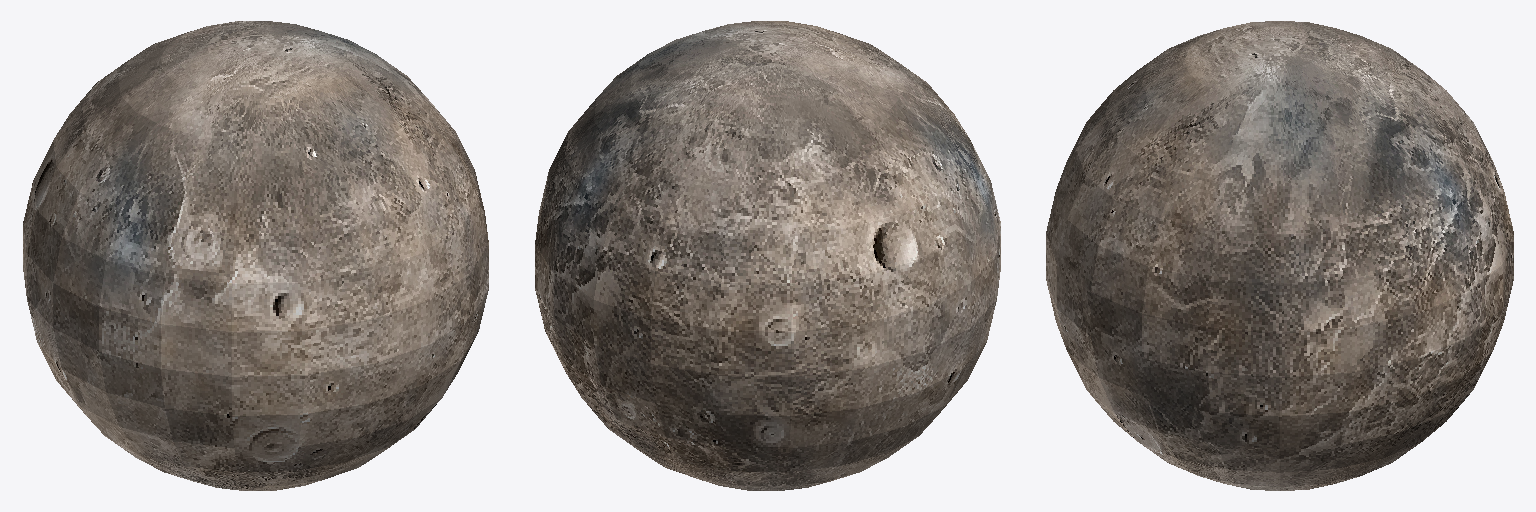
3 views of the same model, side by side, from view 1: azimuth 30°, elevation 25°; view 2: azimuth 150°, elevation 25°; view 3: azimuth 270°, elevation 25° (orthographic).
Size of the model in its own units: 1.99 by 2 by 1.99.
1 materials, 1 textured.